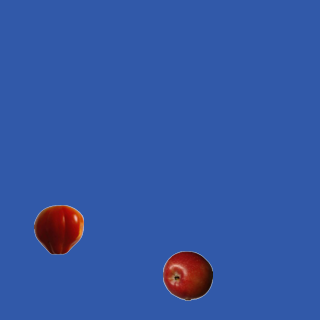Apple Braeburn: (162, 250, 212, 300)
Tomato 1: (33, 204, 83, 254)
